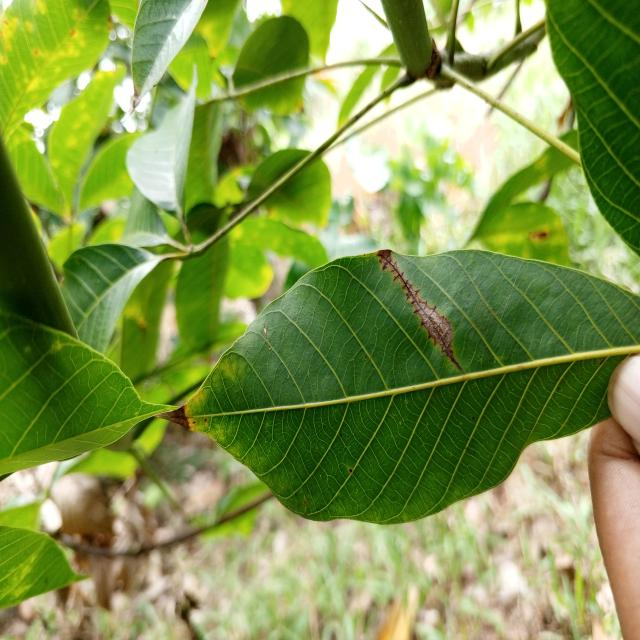Corynespora: (378, 251, 462, 371)
Leaf-Blight: (153, 406, 191, 431)
